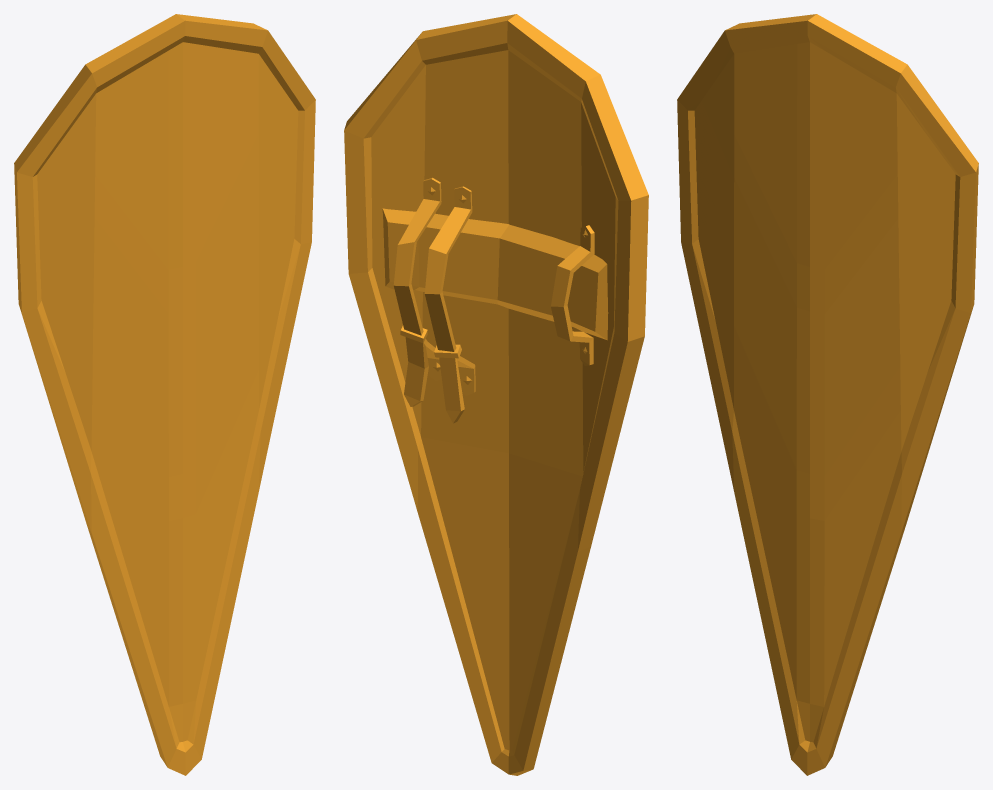
File: SM_Shield_Kite_B.fbx
The picture shows the model from 3 angles, left to right: view 1: azimuth 30°, elevation 25°; view 2: azimuth 150°, elevation 25°; view 3: azimuth 330°, elevation 25°; orthographic projection.
Visible parts, largest first — view 1: shield-kite-b; view 2: shield-kite-b; view 3: shield-kite-b.
Part boxes in pixels (box(x1,y1,x2,y2)): shield-kite-b: box(14, 14, 315, 775); shield-kite-b: box(344, 14, 648, 775); shield-kite-b: box(677, 14, 978, 775).
Size of the model in its own units: 0.6127 by 1.48 by 0.1703.
